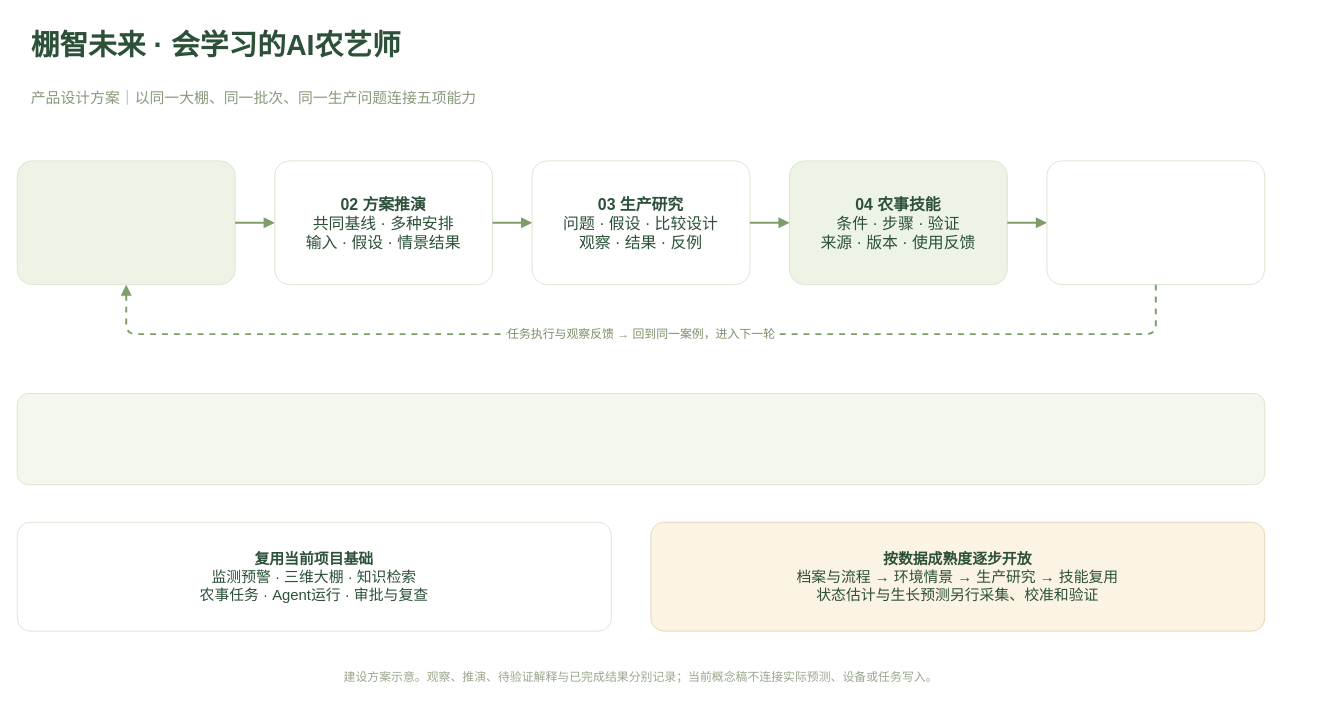
Some shapes in this 1322 by 712 pixel diagram are drawn without their labels. Here are the shapes that lost their labels. From the top down, the centre of each, then its label:
At pixel 125 222: "01 生长档案 状态与来源 环境 · 观察 · 管理履历".
At pixel 1155 222: "05 目标编排 对象 · 人员 · 依赖 任务 · 观察 · 后续计划".
At pixel 640 439: "统一案例与证据 组织 / 大棚 / 区域 / 批次 · 环境记录 · 人工观察 · 知识引用 · 任务与复查 · 模型与技能版本".
